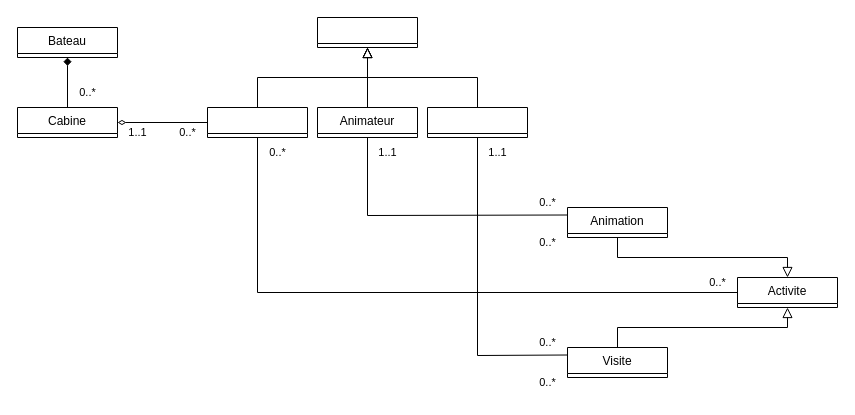
The diagram is 855 pixels wide and 415 high, and some of its shapes have lost their labels. The box of each missing label's shape, as (x1, y1, x2, y2) in pixels:
Guide: (426, 106, 528, 138)
Passager: (206, 106, 308, 138)
Personne: (316, 16, 418, 48)
